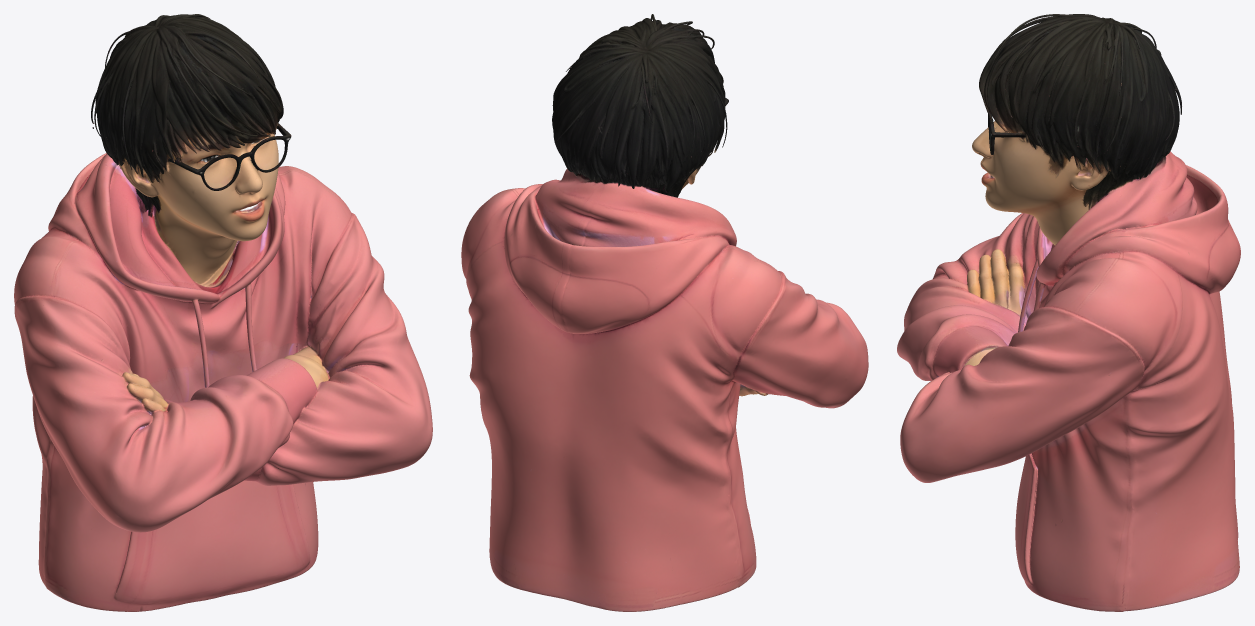
The picture shows the model from 3 angles, left to right: view 1: azimuth 30°, elevation 25°; view 2: azimuth 150°, elevation 25°; view 3: azimuth 270°, elevation 25°; orthographic projection. The views are drawn at different scales.
Size of the model in its own units: 1.24 by 1.9 by 1.12.
1 material, 1 textured.
